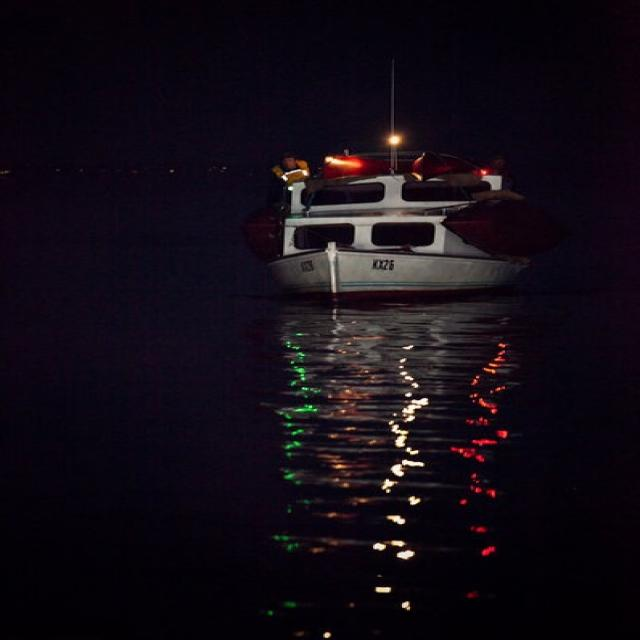Boat: (254, 121, 583, 315)
